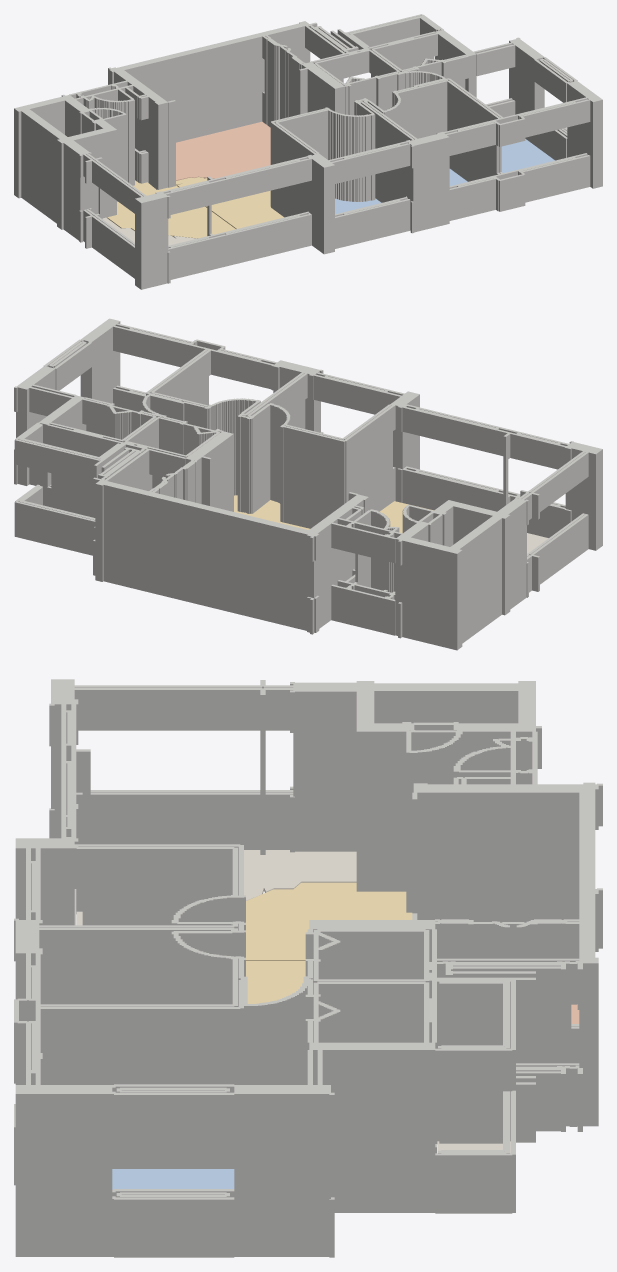
3 views of the same model, one above another, from view 1: azimuth 30°, elevation 25°; view 2: azimuth 150°, elevation 25°; view 3: azimuth 270°, elevation 25° (orthographic). The views are drawn at different scales.
Visible parts, largest first — view 1: walls, room:kitchen:13, room:living:6, room:living:7, room:bedroom:0, room:other:3, room:bedroom:2; view 2: walls, room:living:7; view 3: walls, room:living:6, room:other:3, room:bedroom:0, room:living:7.
Boxes of the visible parts, bbox=[...] form: walls: bbox=[14, 14, 602, 289]; room:kitchen:13: bbox=[176, 121, 270, 180]; room:living:6: bbox=[107, 180, 235, 238]; room:living:7: bbox=[176, 177, 283, 228]; room:bedroom:0: bbox=[501, 139, 554, 172]; room:other:3: bbox=[102, 217, 196, 245]; room:bedroom:2: bbox=[335, 198, 381, 214]; walls: bbox=[14, 318, 602, 650]; room:living:7: bbox=[234, 495, 433, 533]; walls: bbox=[14, 679, 602, 1257]; room:living:6: bbox=[246, 882, 412, 960]; room:other:3: bbox=[76, 850, 356, 925]; room:bedroom:0: bbox=[112, 1169, 234, 1189]; room:living:7: bbox=[246, 961, 305, 1003].
Bounding box in the file's own units: 15.32 × 2.8 × 9.18.
